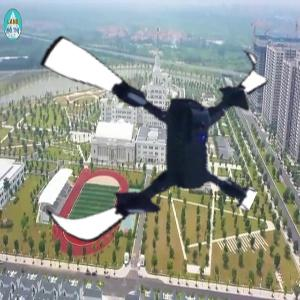drone: (18, 9, 272, 263)
